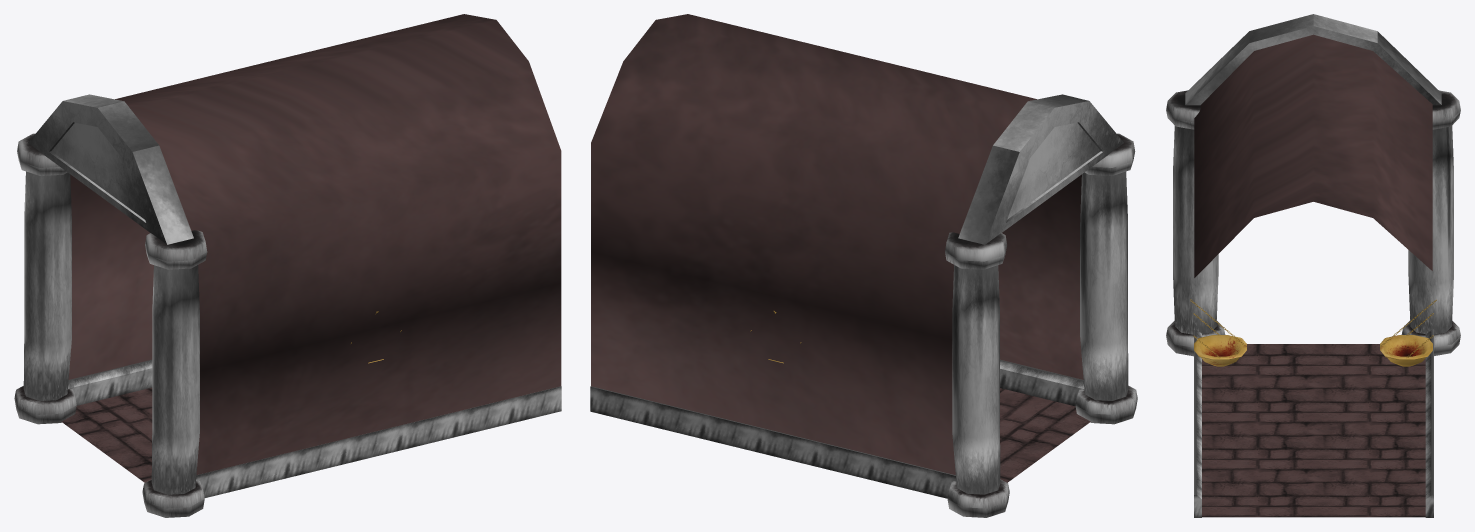
File: MOD_L1_Hallway01.fbx
3 views of the same model, side by side, from view 1: azimuth 30°, elevation 25°; view 2: azimuth 150°, elevation 25°; view 3: azimuth 270°, elevation 25° (orthographic). The views are drawn at different scales.
Parts seen in each view (by area): view 1: Room01_Main.001; view 2: Room01_Main.001; view 3: Room01_Main.001.
Part boxes in pixels (x1,y1,x2,y2): Room01_Main.001: (14, 14, 561, 517); Room01_Main.001: (590, 14, 1137, 517); Room01_Main.001: (1166, 14, 1460, 517).
Bounding box in the file's own units: 69.76 × 57.04 × 46.66.
